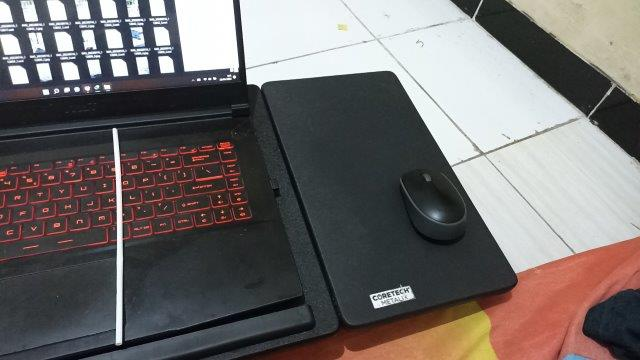sedotan: (112, 128, 123, 344)
